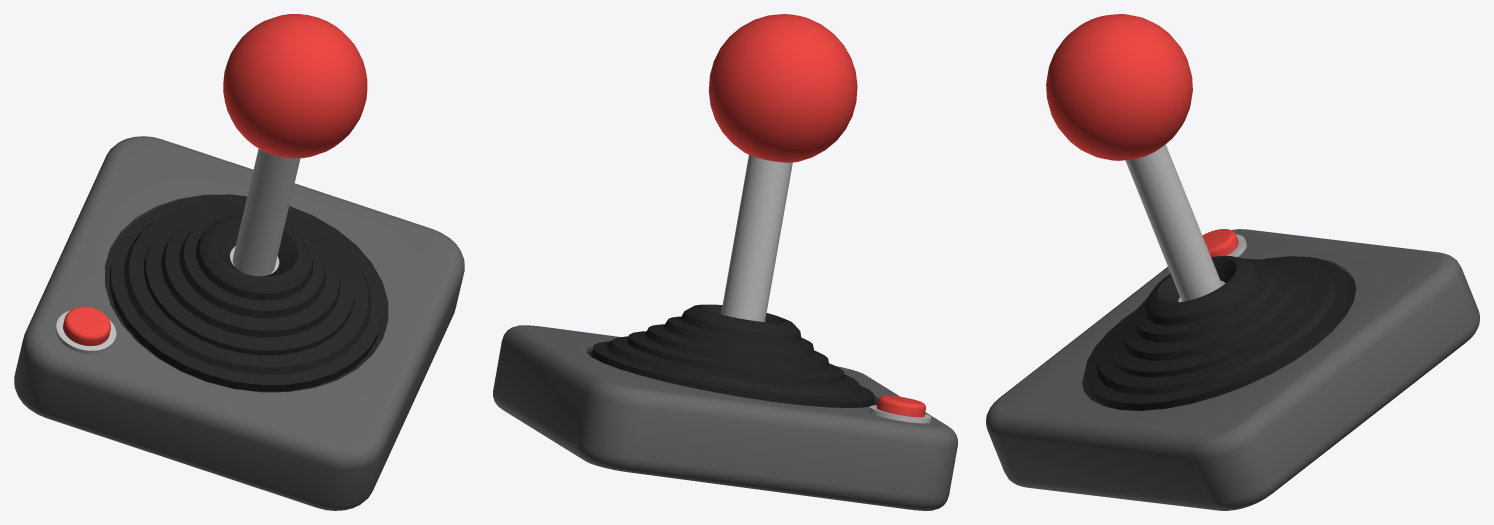
File: joystick.glb
The picture shows the model from 3 angles, left to right: view 1: azimuth 30°, elevation 25°; view 2: azimuth 150°, elevation 25°; view 3: azimuth 270°, elevation 25°; orthographic projection. The views are drawn at different scales.
Parts seen in each view (by area): view 1: Circle.2534; view 2: Circle.2534; view 3: Circle.2534.
Boxes of the visible parts, <box> form: Circle.2534: <box>14,14,464,510</box>; Circle.2534: <box>493,14,957,510</box>; Circle.2534: <box>986,14,1479,510</box>.
Size of the model in its own units: 2.16 by 2.17 by 2.11.
1 material, 1 textured.
